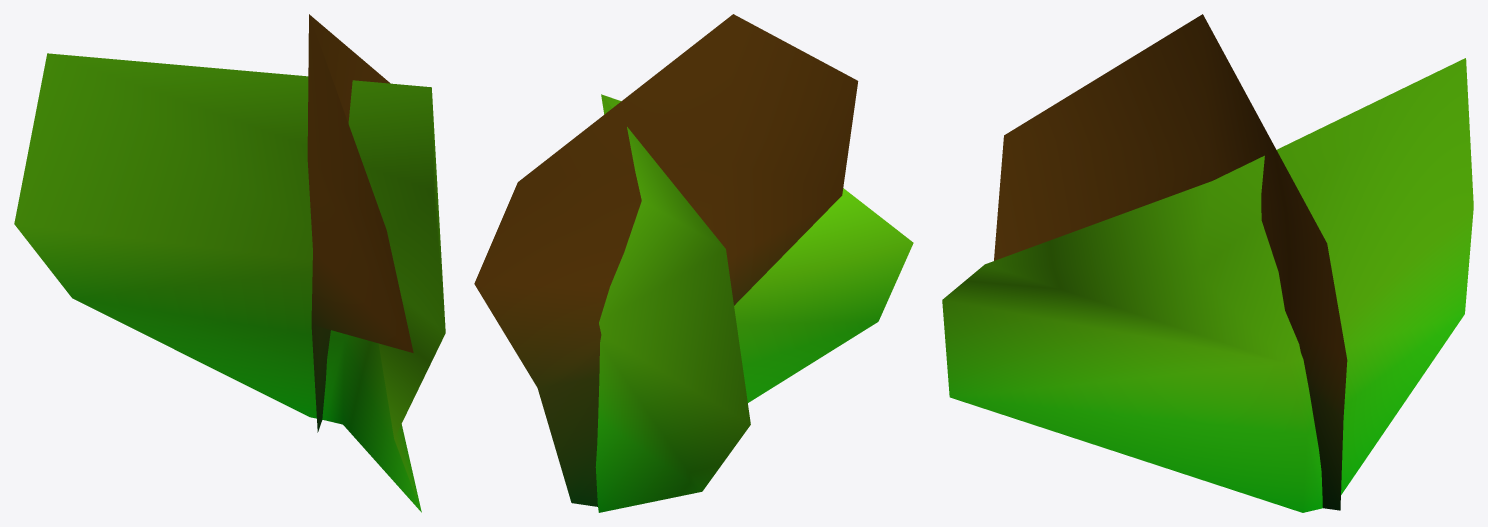
The model's file is Var1Hi1.fbx.
3 views of the same model, side by side, from view 1: azimuth 30°, elevation 25°; view 2: azimuth 150°, elevation 25°; view 3: azimuth 270°, elevation 25° (orthographic). The views are drawn at different scales.
Visible parts, largest first — view 1: bend1; view 2: bend1; view 3: bend1.
Part boxes in pixels (<box>): bend1: <box>14,14,445,512</box>; bend1: <box>474,14,913,512</box>; bend1: <box>942,14,1473,512</box>.
Size of the model in its own units: 1.04 by 1.37 by 1.42.
